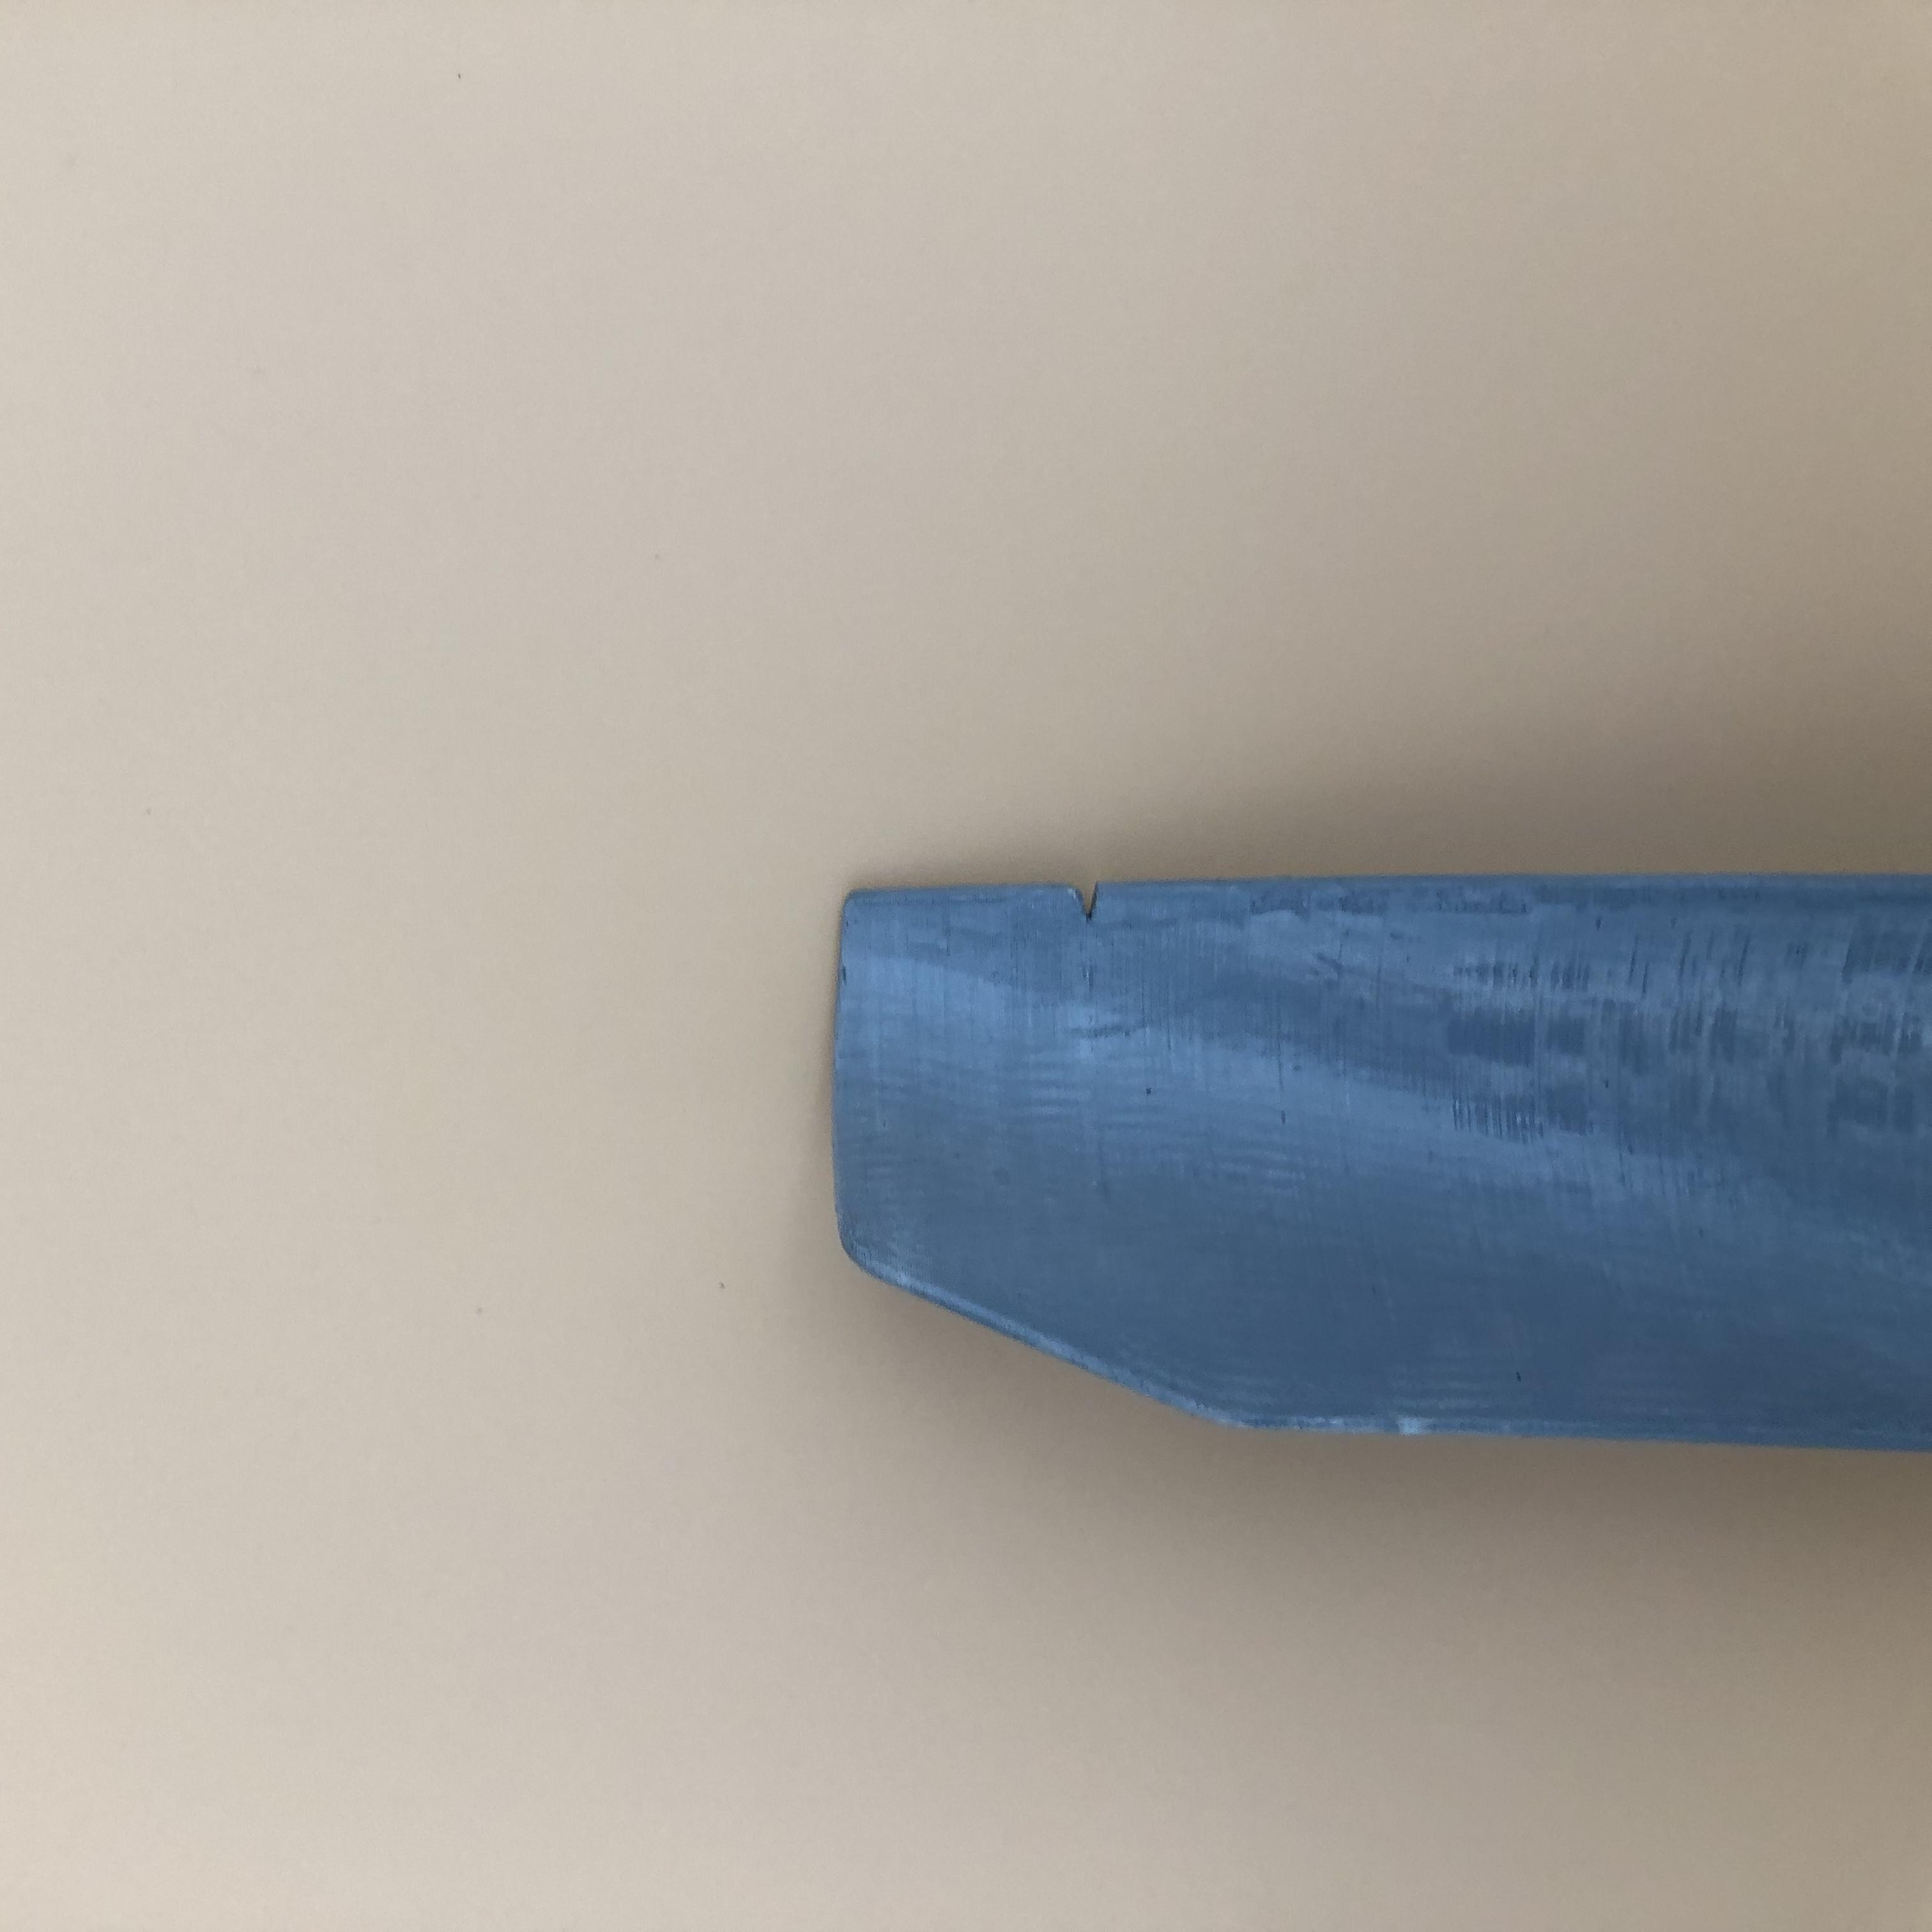groove: (1056, 885, 1129, 924)
